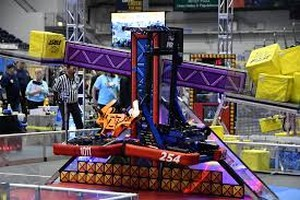cube: (29, 30, 65, 61), (254, 74, 291, 101), (249, 48, 280, 77), (239, 149, 271, 173), (278, 46, 300, 74), (258, 118, 284, 131)
